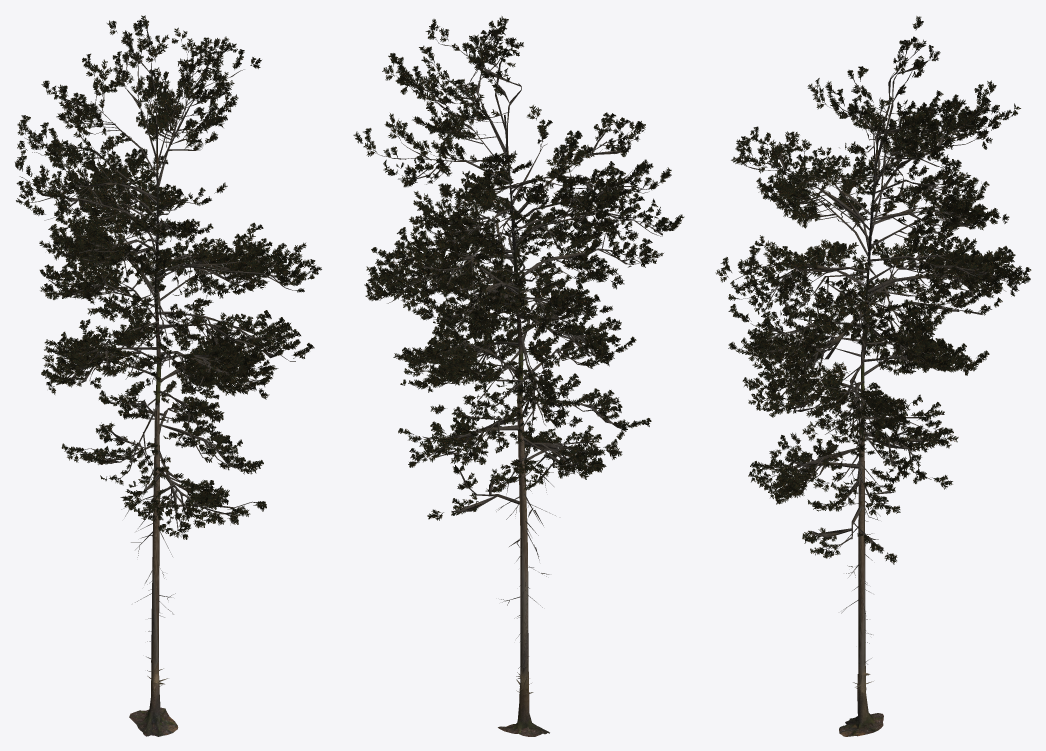
The model's file is pine_a.glb.
The picture shows the model from 3 angles, left to right: view 1: azimuth 30°, elevation 25°; view 2: azimuth 150°, elevation 25°; view 3: azimuth 270°, elevation 25°; orthographic projection. The views are drawn at different scales.
Parts seen in each view (by area): view 1: Forest_pine_a; view 2: Forest_pine_a; view 3: Forest_pine_a.
Part boxes in pixels (<box>): Forest_pine_a: <box>15,15,321,736</box>; Forest_pine_a: <box>353,16,684,736</box>; Forest_pine_a: <box>715,16,1031,736</box>.
Size of the model in its own units: 7.59 by 20.4 by 8.3.
Materials: 4 (4 with a texture image).
